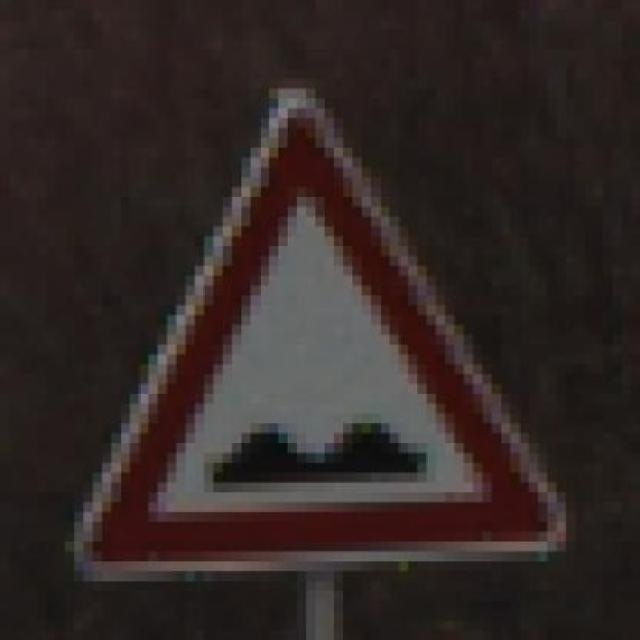Uneven Road: (47, 68, 576, 581)
